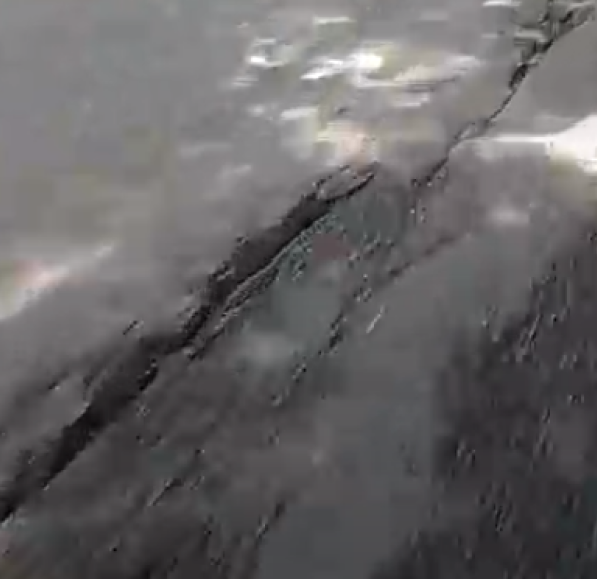Retak Melintang: (1, 8, 577, 547)
